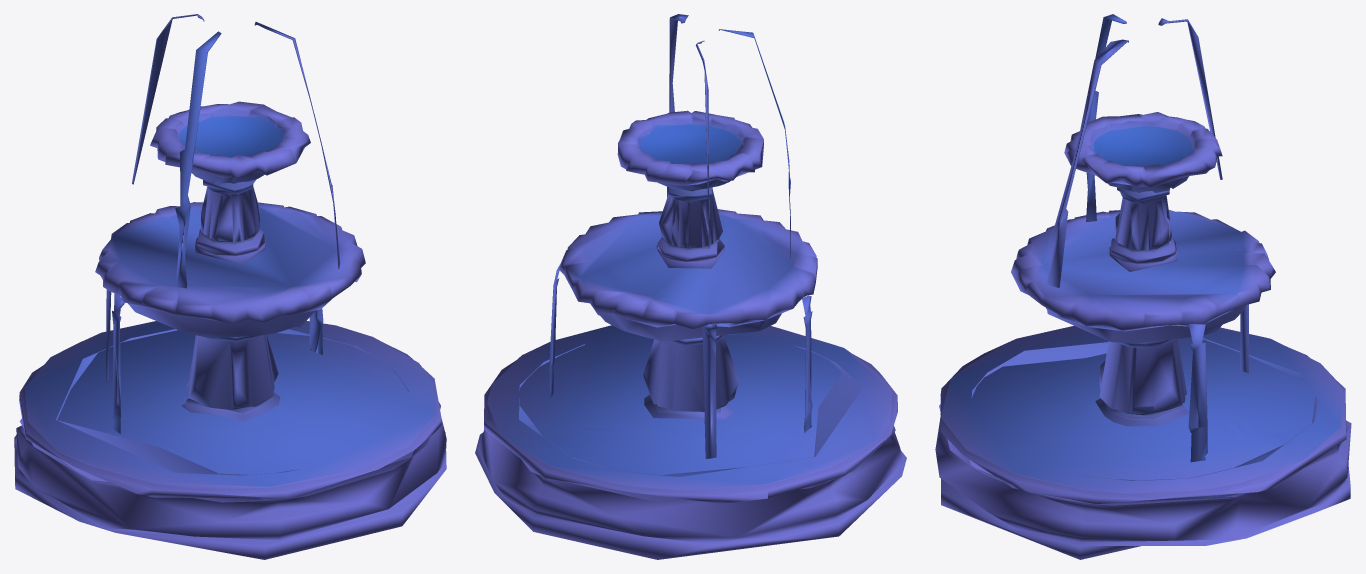
File: model.progressive.glb
3 views of the same model, side by side, from view 1: azimuth 30°, elevation 25°; view 2: azimuth 150°, elevation 25°; view 3: azimuth 270°, elevation 25° (orthographic).
Parts seen in each view (by area): view 1: material; view 2: material; view 3: material.
Boxes of the visible parts, x1,y1,x2,y2 form: material: (14, 14, 446, 559); material: (475, 14, 906, 559); material: (935, 14, 1351, 559).
Bounding box in the file's own units: 1.66 × 1.9 × 1.62.
Materials: 1 (1 with a texture image).
